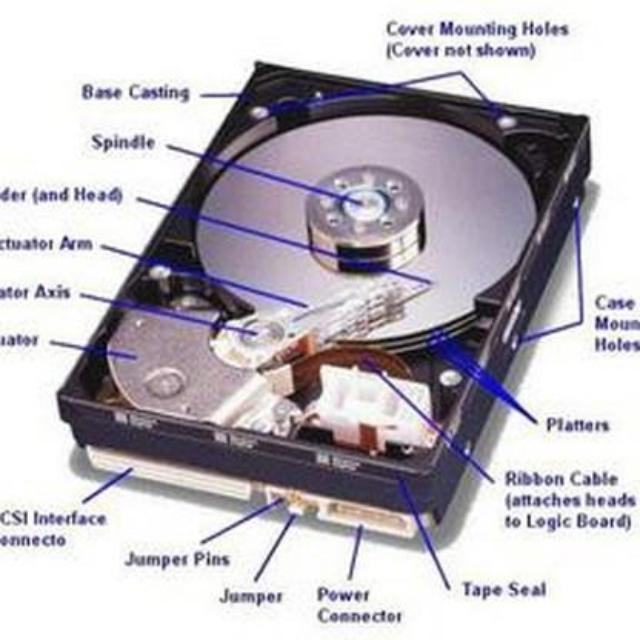DISK: (54, 39, 612, 536)
